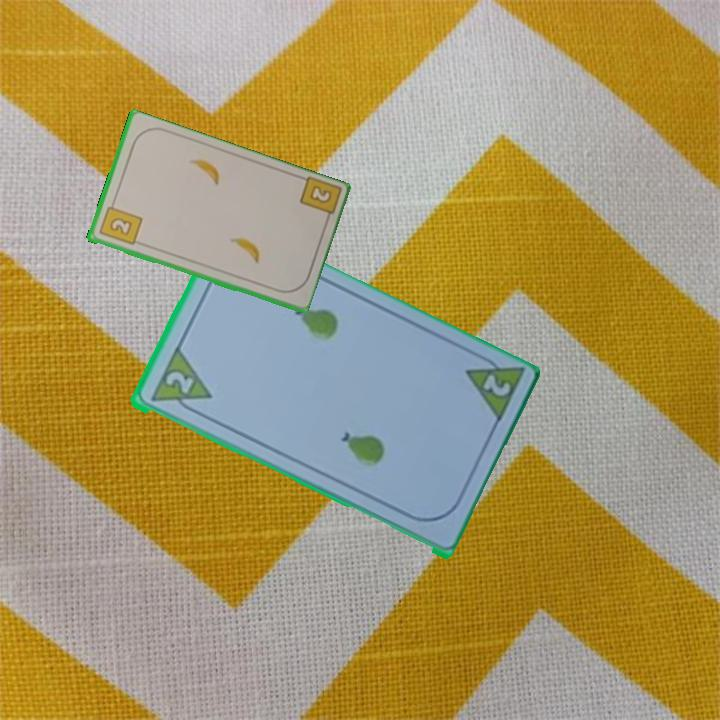2b: (295, 174, 342, 227), (95, 198, 144, 248)
2p: (161, 367, 196, 397), (478, 370, 513, 400)
